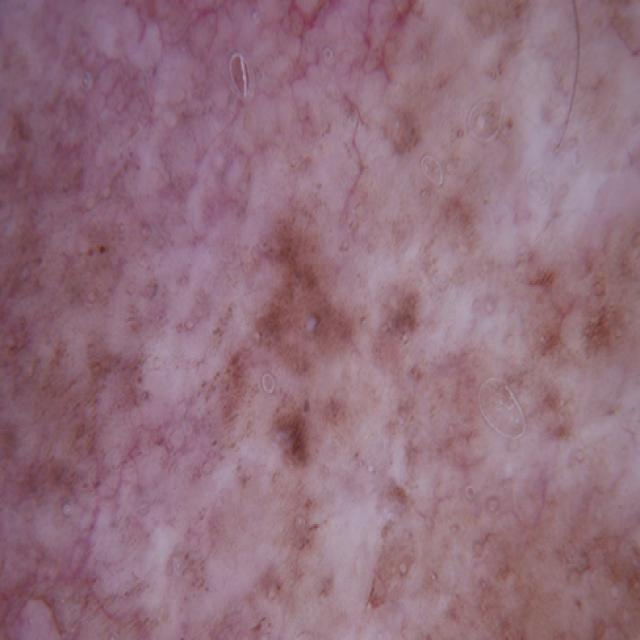Keratosis: (26, 174, 315, 624)
